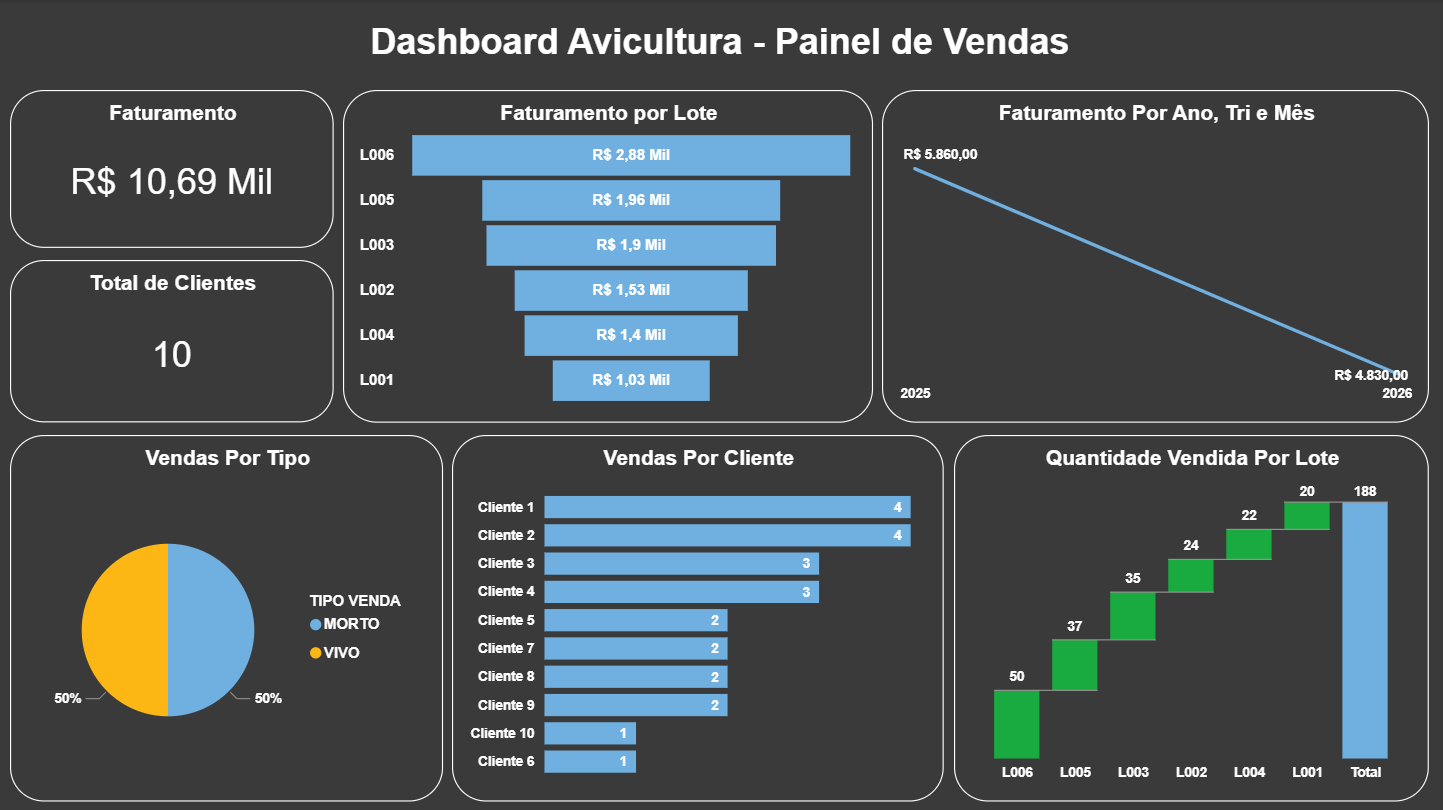

This screenshot's page, from the dashboard's own definition file:
{"tool":"powerbi","page":{"name":"Vendas","canvas":[1280,720],"ordinal":1},"visuals":[{"type":"card","title":"Faturamento","fields":{"Values":["Sum(Venda.VALOR TOTAL)"]},"box":[9.7,79.8,286.9,140.1],"z":0},{"type":"funnel","title":"Faturamento por Lote","fields":{"Category":["Venda.ID LOTE"],"Y":["Sum(Venda.VALOR TOTAL)"]},"box":[305.4,79.8,469.8,294.7],"z":1000},{"type":"lineChart","title":"Faturamento Por Ano, Tri e Mês","fields":{"Category":["Venda.DATA VENDA.Variation.Hierarquia de datas.Ano","Venda.DATA VENDA.Variation.Hierarquia de datas.Trimestre","Venda.DATA VENDA.Variation.Hierarquia de datas.Mês","Venda.DATA VENDA.Variation.Hierarquia de datas.Dia"],"Y":["Sum(Venda.VALOR TOTAL)"]},"box":[783,79.8,485.3,294.7],"z":2000},{"type":"card","title":"Total de Clientes","fields":{"Values":["Count(Venda.COD CLIENTE)"]},"box":[9.7,230.5,286.9,144],"z":3000},{"type":"pieChart","title":"Vendas Por Tipo","fields":{"Y":["CountNonNull(Venda.ID VENDA)"],"Category":["Venda.TIPO VENDA"]},"box":[9.7,386.1,384.2,324.9],"z":4000},{"type":"clusteredBarChart","title":"Vendas Por Cliente","fields":{"Y":["CountNonNull(Venda.ID VENDA)"],"Category":["Cliente.NOME CLIENTE"]},"box":[401.7,386.1,435.7,324.9],"z":5000},{"type":"waterfallChart","title":"Quantidade Vendida Por Lote","fields":{"Category":["Venda.ID LOTE"],"Y":["Sum(Venda.QUANTIDADE VENDIDA)"]},"box":[847.2,386.1,421.2,324.9],"z":6000},{"type":"textbox","box":[214,14.6,851.1,46.7],"z":6001}]}

Visuals, with their boxes in screenshot pixels (x1, y1, x2, y2), scaled from the page's 1280x720 canvas onto the 1443x810 screenshot:
"Faturamento" card: left=11, top=90, right=334, bottom=247
"Faturamento por Lote" funnel: left=344, top=90, right=874, bottom=421
"Faturamento Por Ano, Tri e Mês" lineChart: left=883, top=90, right=1430, bottom=421
"Total de Clientes" card: left=11, top=259, right=334, bottom=421
"Vendas Por Tipo" pieChart: left=11, top=434, right=444, bottom=800
"Vendas Por Cliente" clusteredBarChart: left=453, top=434, right=944, bottom=800
"Quantidade Vendida Por Lote" waterfallChart: left=955, top=434, right=1430, bottom=800
textbox: left=241, top=16, right=1201, bottom=69
